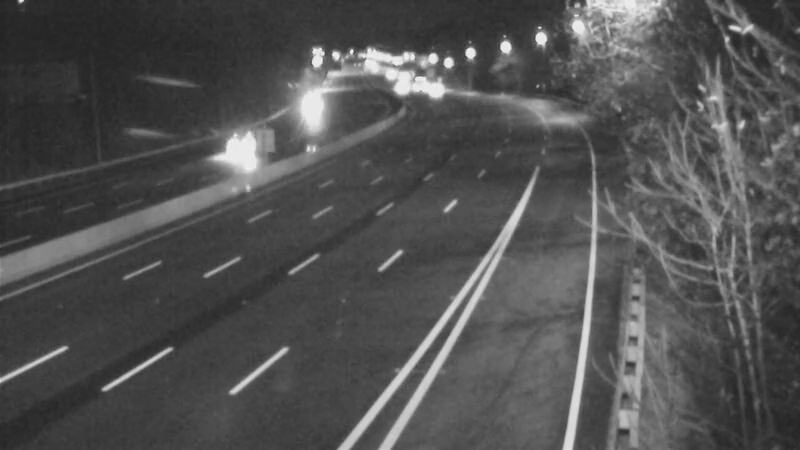vehicle: (377, 63, 427, 113), (410, 68, 460, 118), (209, 122, 259, 172), (287, 82, 337, 132)
